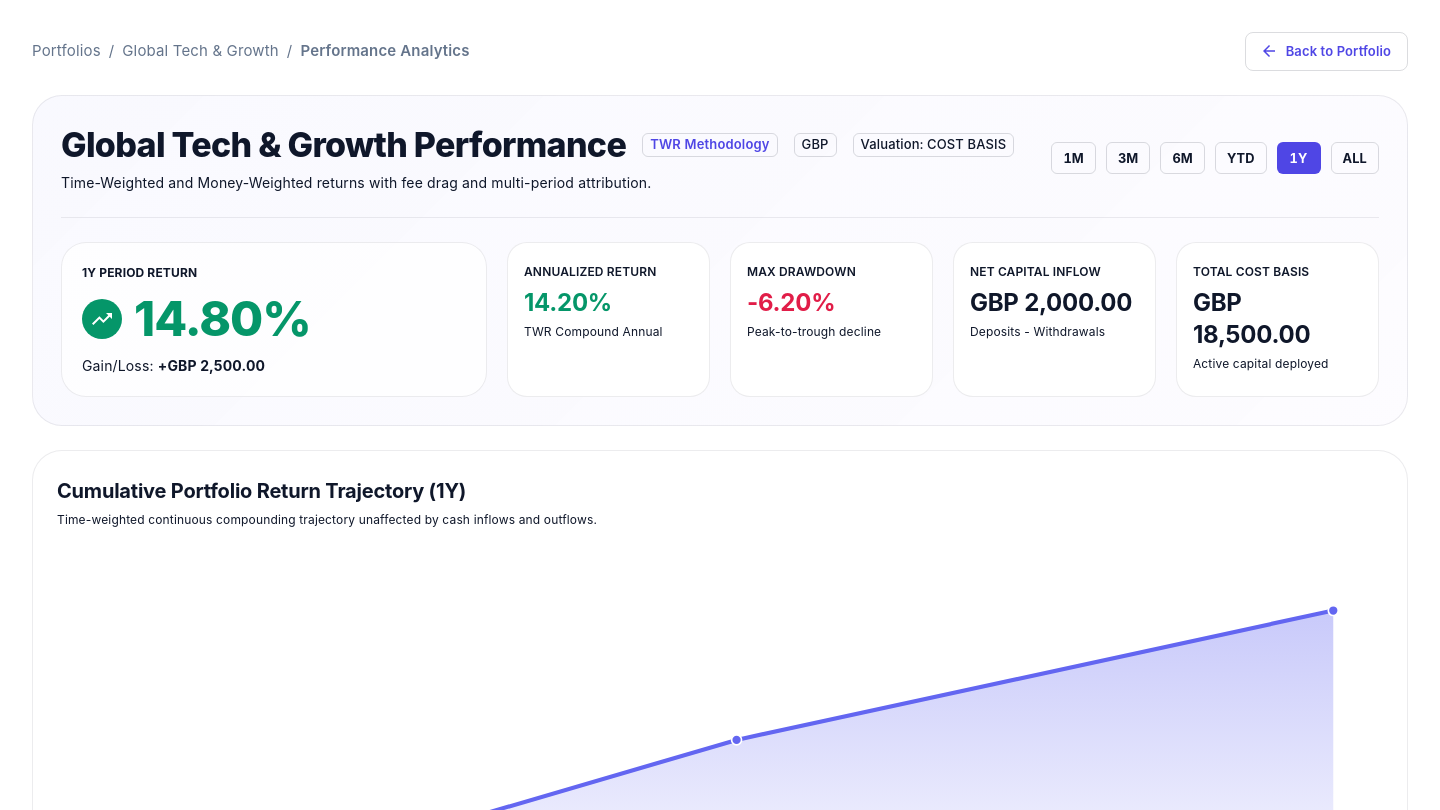
Test: Performance Feature Suite › PerformanceDetailPage Component › allows changing the period on the detail page
Check: the heading "Global Tech & Growth Performance" is shown, box 61,124 -> 626,166
# Click ALL chip
Click the button "ALL". click: (1355, 158)
box: 1330,142 -> 1379,174
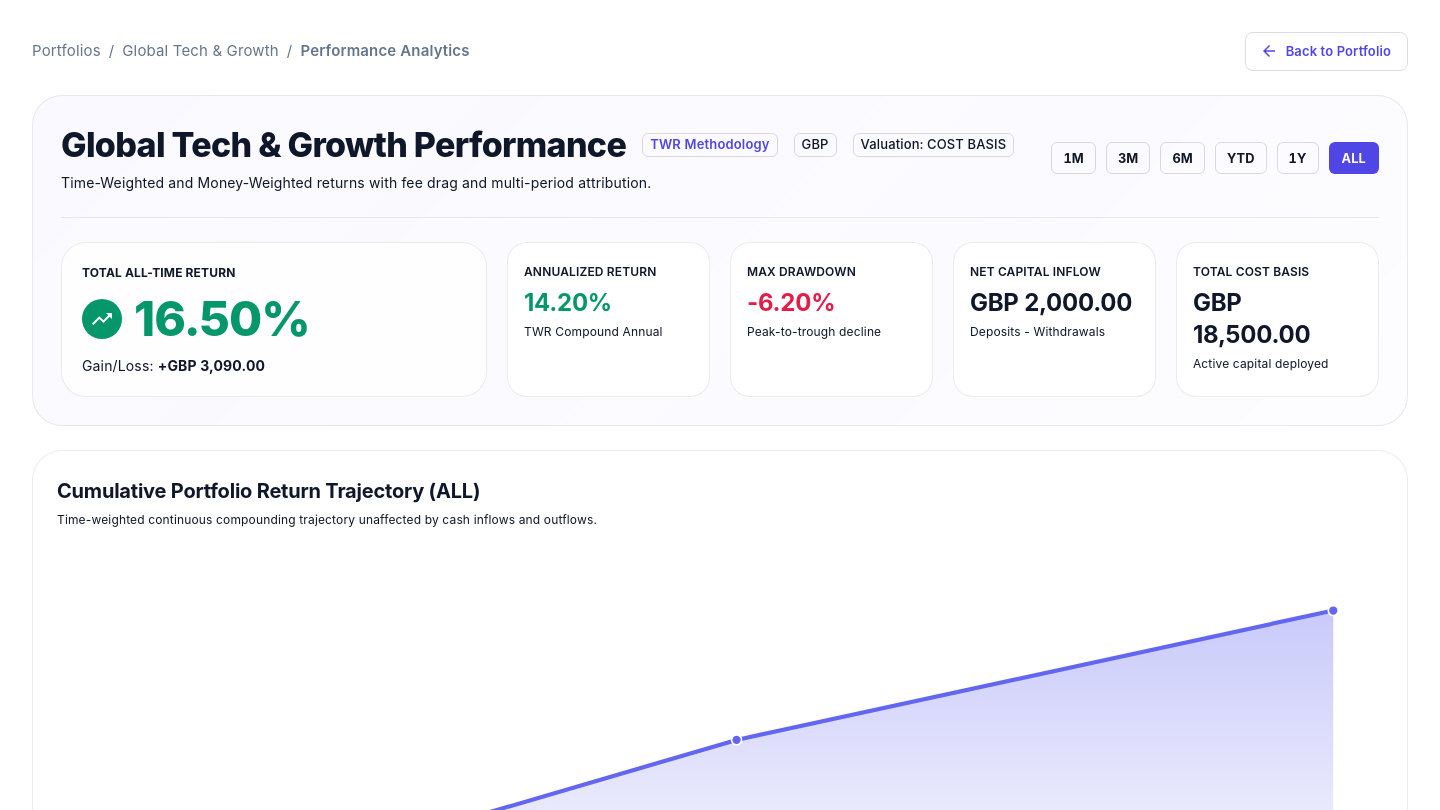
Check: the heading "16.50%" is shown, box 134,291 -> 310,347
Check: the text "Total All-Time Return" is shown, box 82,265 -> 236,280
